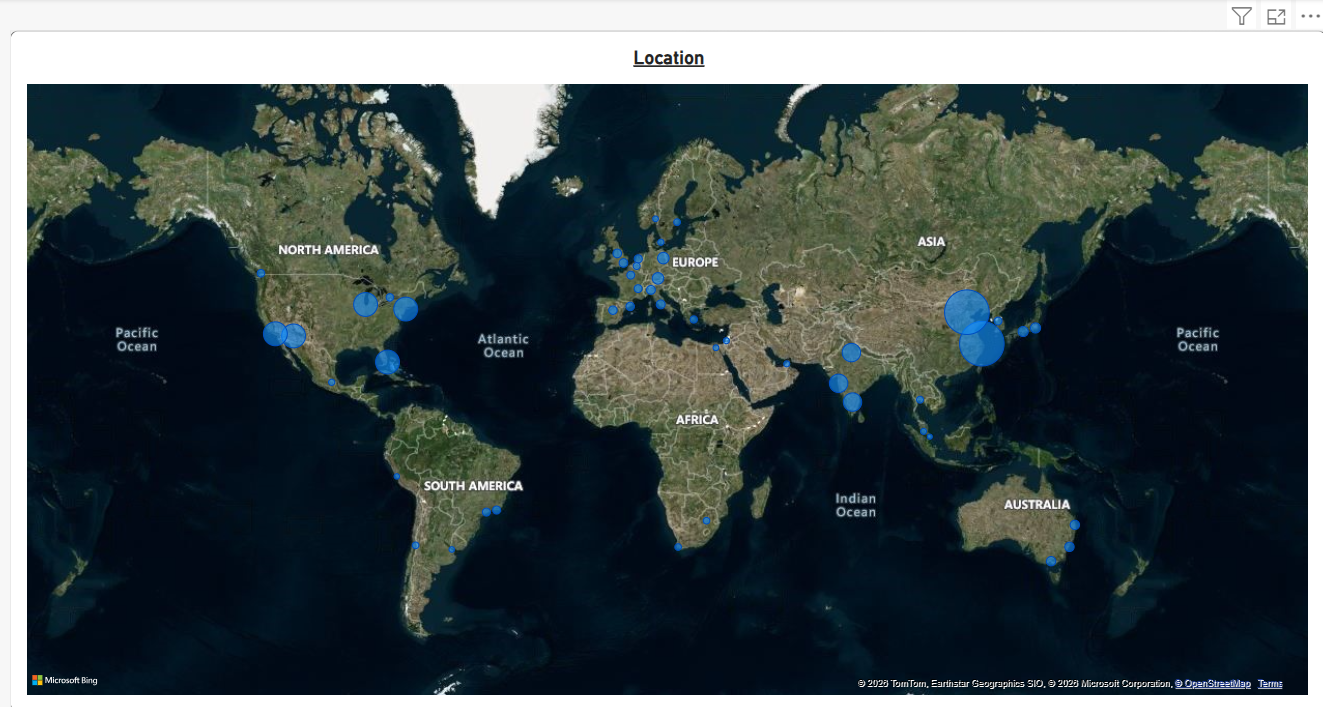

Layout of this report page (visuals, bound fields, positions):
{"tool":"powerbi","page":{"name":"Map Visual","canvas":[1280,720],"ordinal":4},"visuals":[{"type":"map","title":"Location","fields":{"Y":["solar_energy_worldwide.Latitude"],"X":["solar_energy_worldwide.Longitude"],"Size":["Sum(solar_energy_worldwide.Solar_Installations_Count)"]},"box":[9.7,31.4,1270.4,658.7],"z":0}]}

Visuals, with their boxes on the page's 1280x720 design canvas (x1, y1, x2, y2). These are canvas units, not pixel positions in the 1323x707 screenshot, which may show the page scaled, cropped or inside an application window:
"Location" map: 10/31/1280/690
